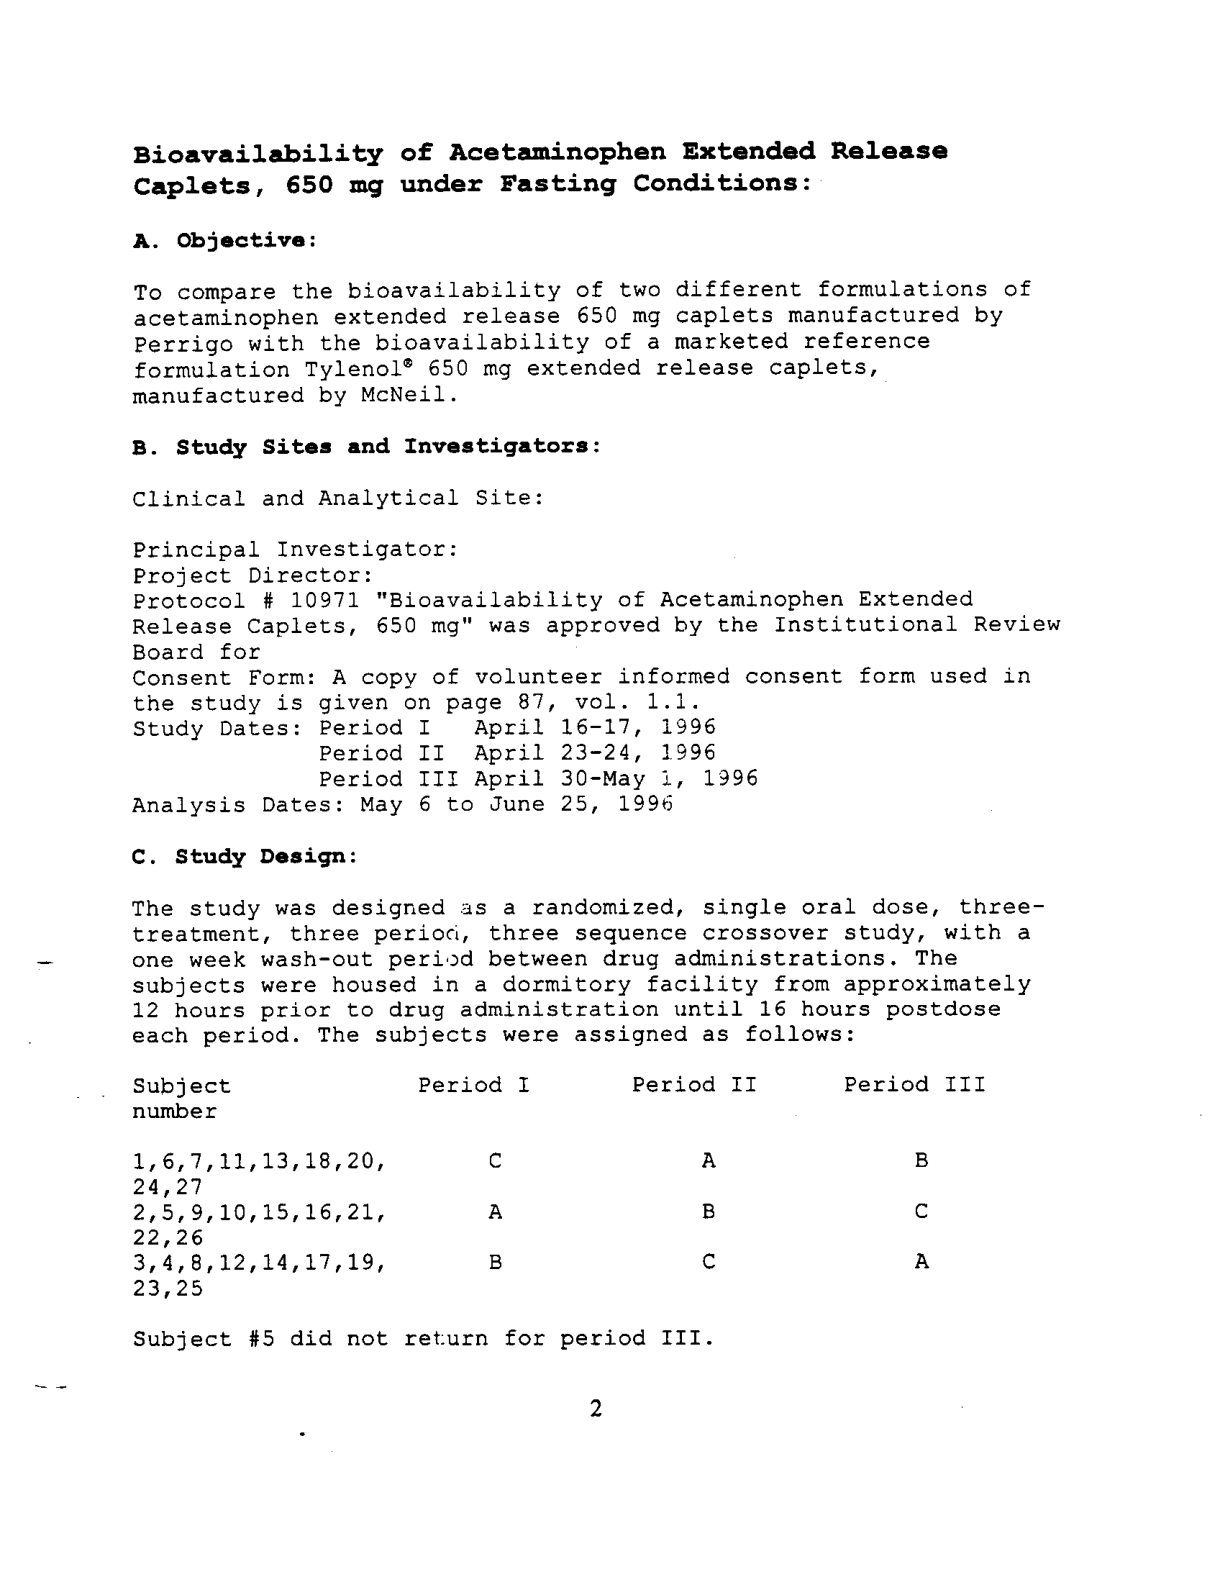nolines: (128, 1072, 986, 1301)
